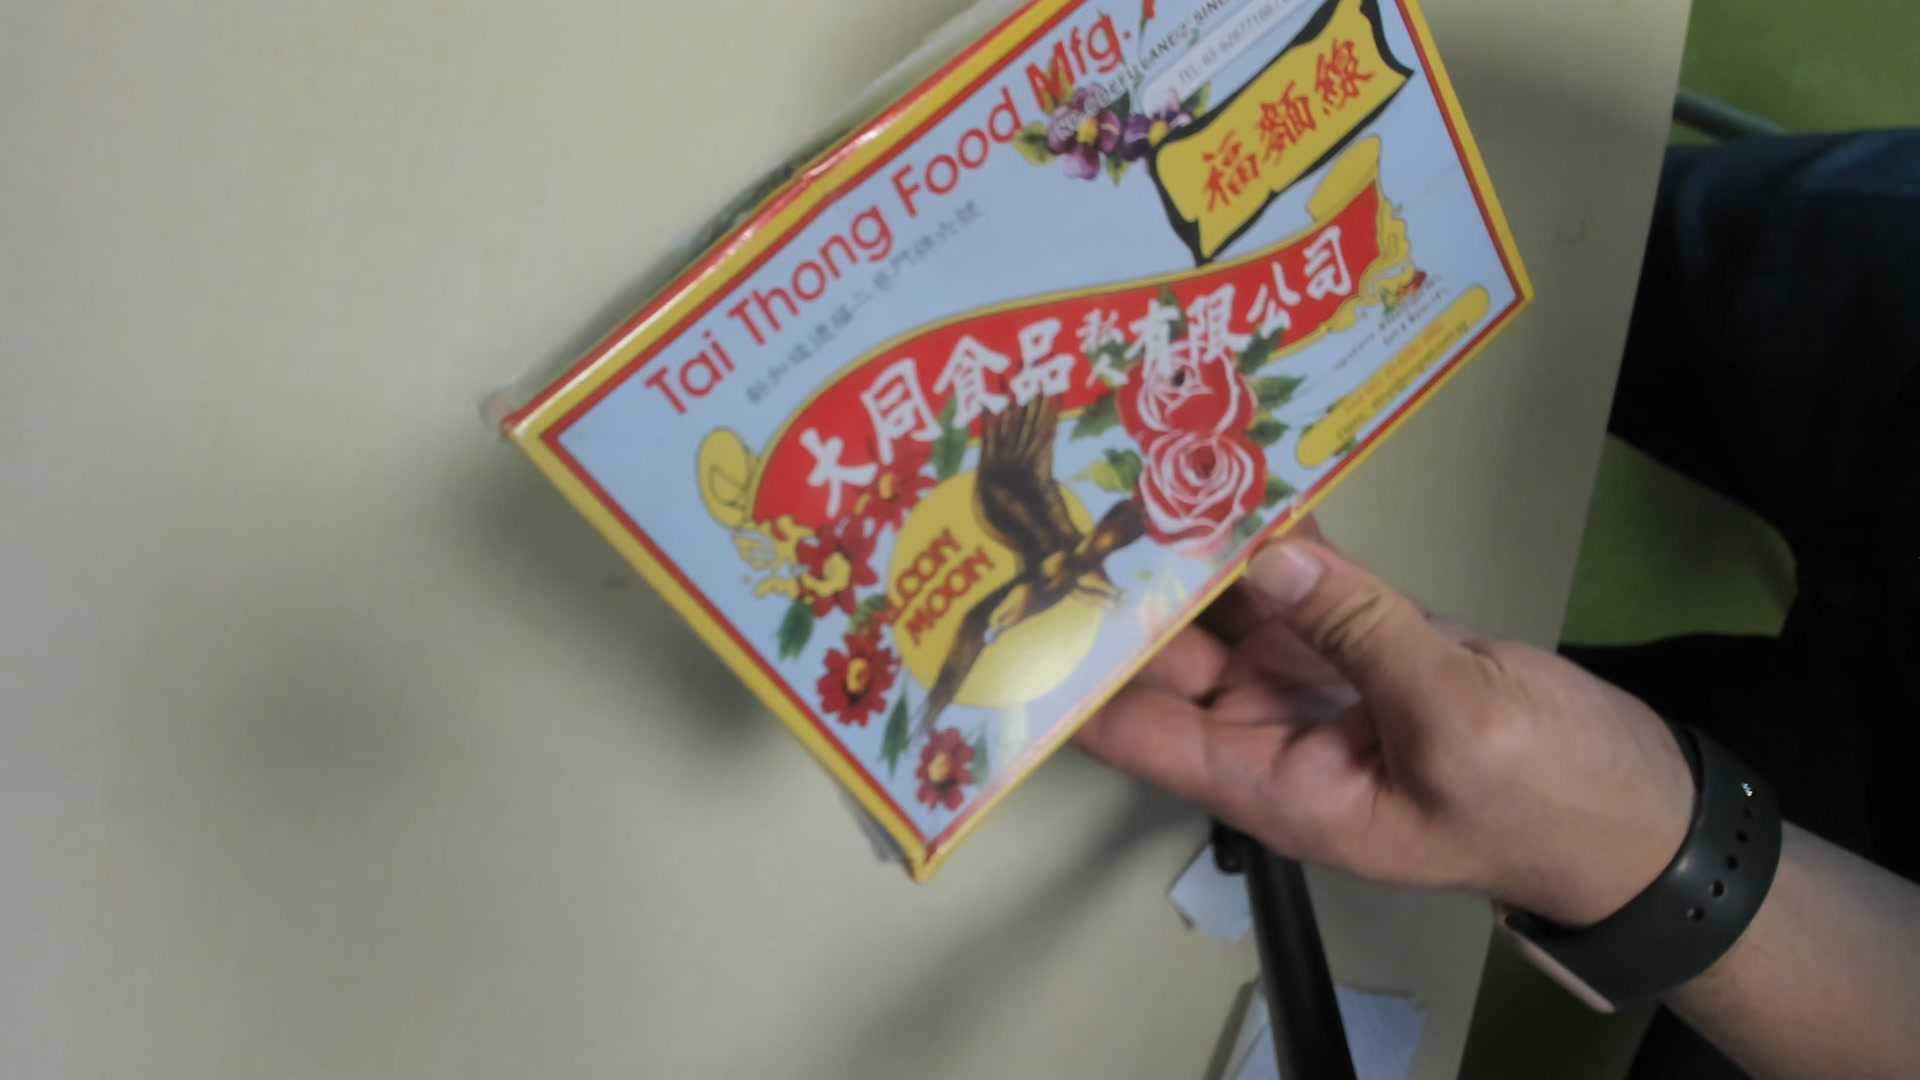BeeHoonVermicelli_0-99g_NonHalal_NonHealthy: (483, 1, 1526, 853)
